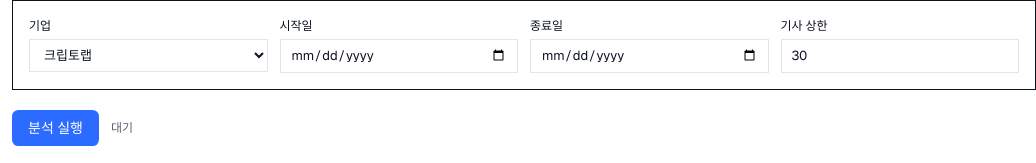
Test case: AnalysisRunner › locks the button while a run is in flight
Click the button "분석 실행": (55,128) [12, 110, 99, 146]
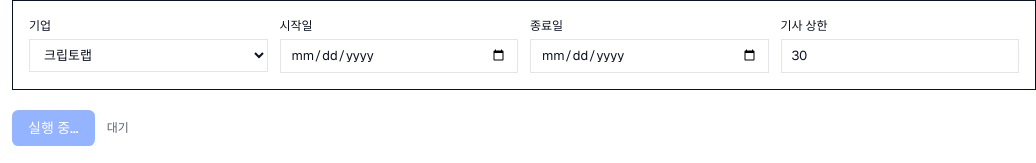
Expected: the button "실행 중…" is disabled, [12, 110, 95, 146]
